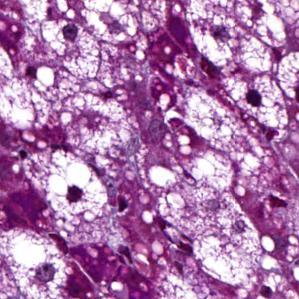ballooning: (40, 149, 111, 231), (58, 90, 135, 164), (188, 14, 274, 76), (39, 18, 102, 81)
